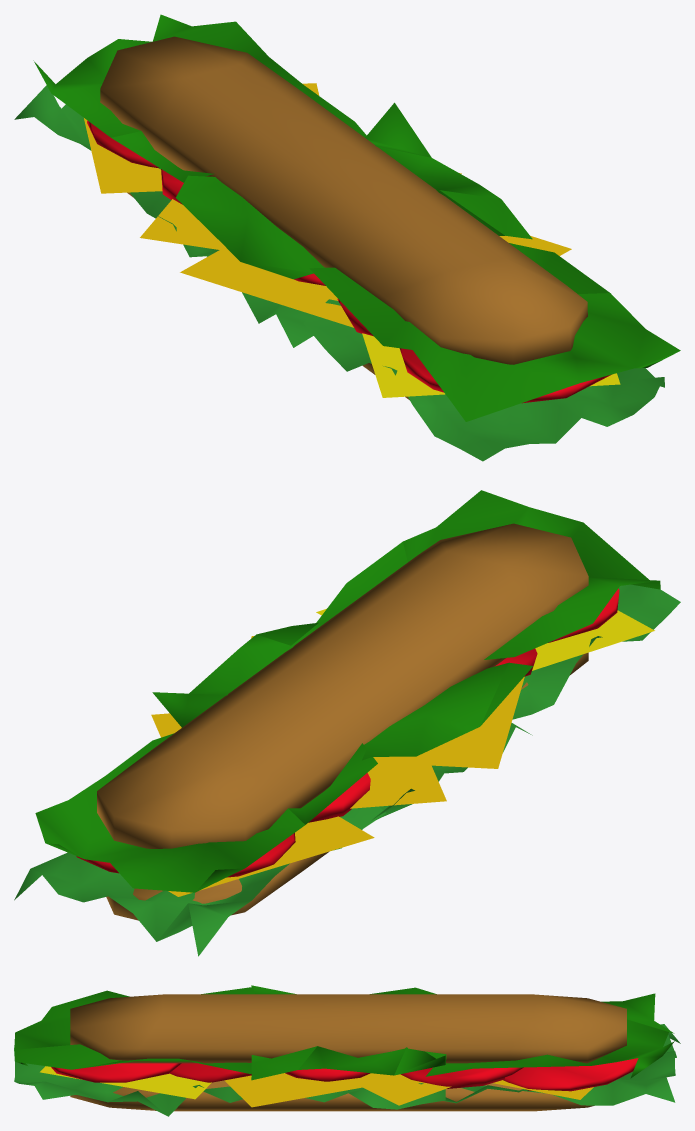
File: sandwich.fbx
3 renders of one model, top to bottom at view 1: azimuth 30°, elevation 25°; view 2: azimuth 150°, elevation 25°; view 3: azimuth 270°, elevation 25°, orthographic. The views are drawn at different scales.
Parts seen in each view (by area): view 1: Cube, Plane.001, Plane, Plane.003, Cube.001, Plane.005, Plane.002, Plane.004; view 2: Cube, Plane.001, Plane, Plane.004, Plane.003, Cube.001, Plane.005, Plane.002; view 3: Cube, Plane.001, Plane, Cube.001, Plane.003, Plane.002, Plane.004, Plane.005.
Part boxes in pixels (x1,y1,x2,y2): Cube: (100, 36, 587, 399); Plane.001: (33, 14, 680, 421); Plane: (14, 85, 664, 461); Plane.003: (180, 235, 571, 327); Cube.001: (87, 120, 611, 403); Plane.005: (84, 83, 319, 193); Plane.002: (362, 333, 620, 397); Plane.004: (140, 173, 461, 251); Cube: (97, 523, 588, 920); Plane.001: (35, 490, 660, 892); Plane: (14, 584, 680, 956); Plane.004: (151, 713, 446, 808); Plane.003: (251, 636, 524, 768); Cube.001: (76, 588, 619, 877); Plane.005: (168, 816, 374, 896); Plane.002: (316, 608, 654, 670); Cube: (70, 994, 626, 1111); Plane.001: (14, 985, 674, 1080); Plane: (14, 1024, 680, 1116); Cube.001: (51, 1058, 638, 1091); Plane.003: (224, 1073, 408, 1107); Plane.002: (40, 1066, 211, 1099); Plane.004: (348, 1073, 451, 1105); Plane.005: (493, 1080, 593, 1099).
Bounding box in the file's own units: 372 × 155 × 961.
